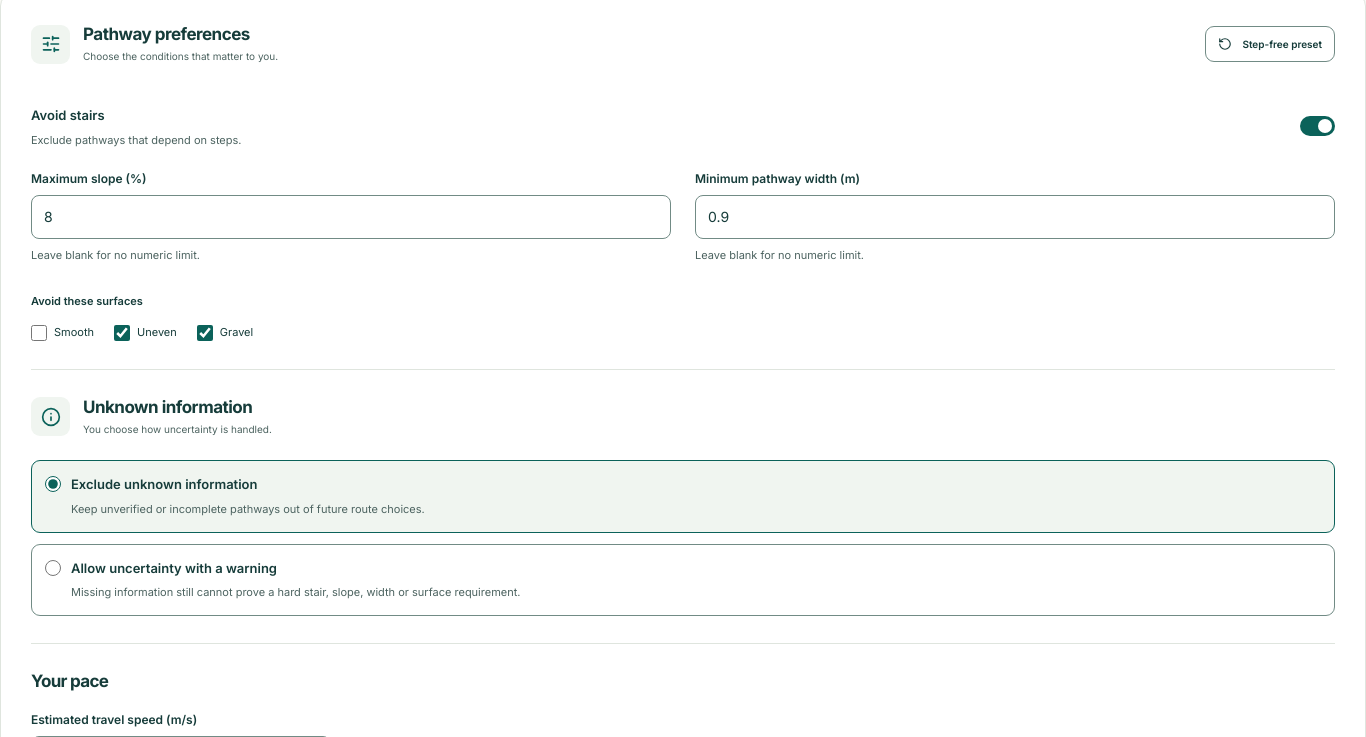
Scenario: preference form behavior › stores blank optional measurements as unknown, not zero
Clear the number field labelled "Maximum slope (%)" at {"x": 351, "y": 217}, box [31,195,671,239]
(page scrolled)
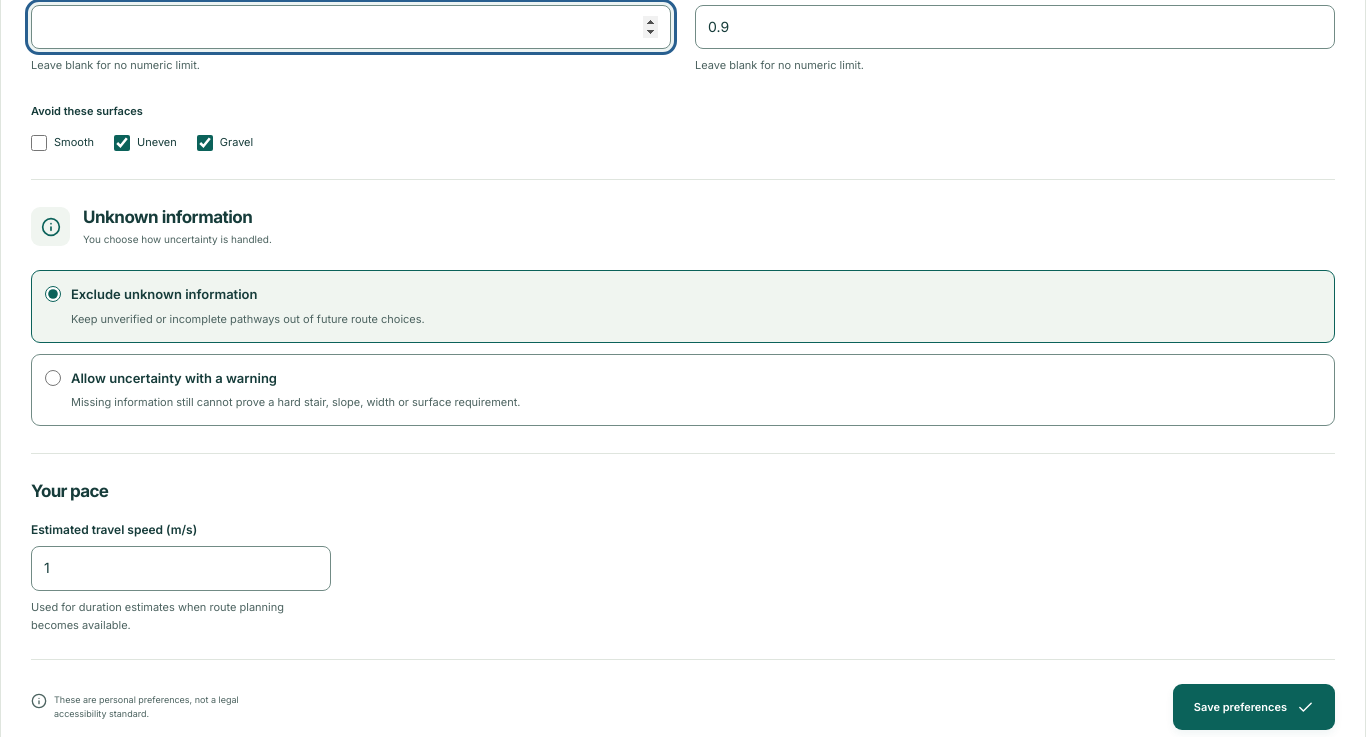
Click the button "Save preferences" at {"x": 1254, "y": 707}, box [1173,684,1335,730]
(page scrolled)
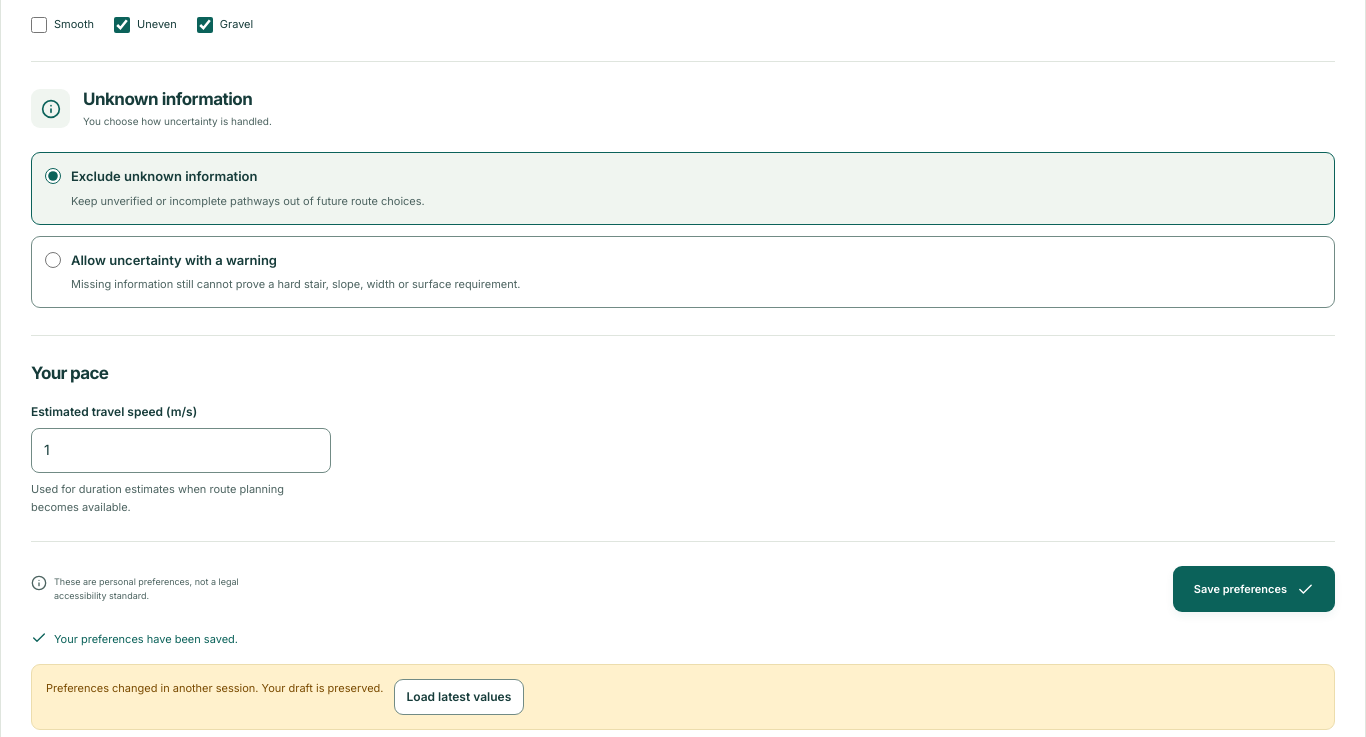
Expected: the text "Your preferences have been saved." is shown, [31,630,238,646]
